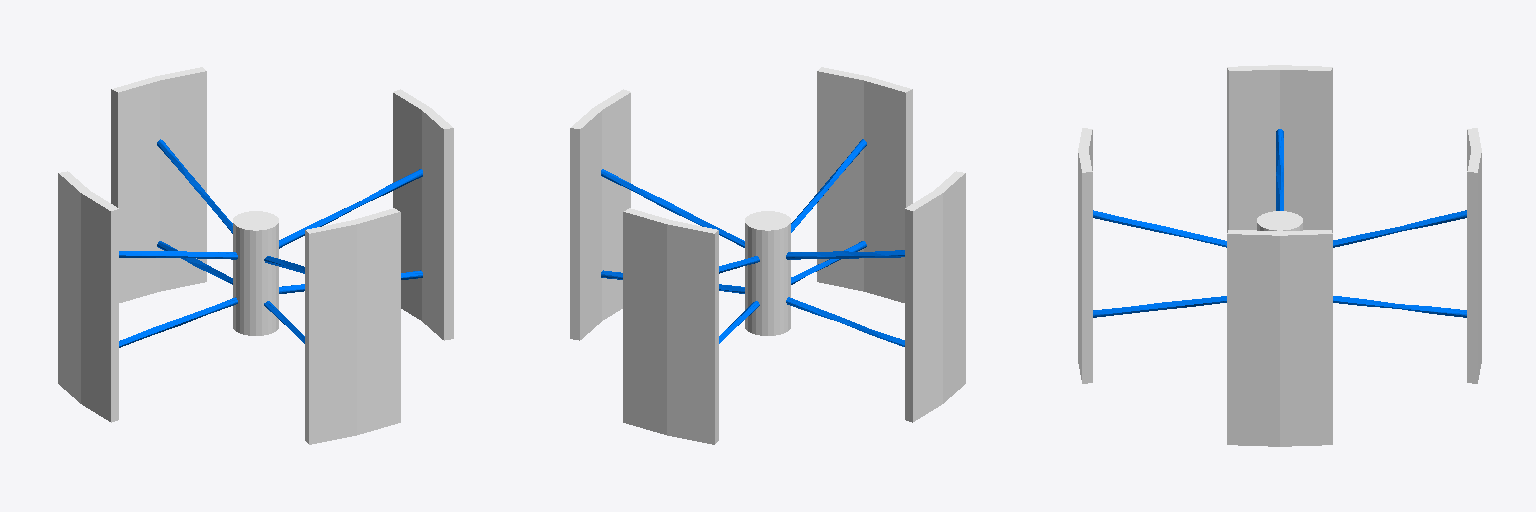
File: wind.obj
3 renders of one model, left to right at view 1: azimuth 30°, elevation 25°; view 2: azimuth 150°, elevation 25°; view 3: azimuth 270°, elevation 25°, orthographic.
Visible parts, largest first — view 1: Joined_Solid_Geometry.001, Joined_Solid_Geometry; view 2: Joined_Solid_Geometry.001, Joined_Solid_Geometry; view 3: Joined_Solid_Geometry.001, Joined_Solid_Geometry.
Boxes of the visible parts, <box> form: Joined_Solid_Geometry.001: <box>58,67,453,444</box>; Joined_Solid_Geometry: <box>119,139,422,347</box>; Joined_Solid_Geometry.001: <box>570,67,965,444</box>; Joined_Solid_Geometry: <box>601,139,904,346</box>; Joined_Solid_Geometry.001: <box>1078,65,1481,446</box>; Joined_Solid_Geometry: <box>1093,129,1466,317</box>.
Size of the model in its own units: 0.52 by 0.3 by 0.52.